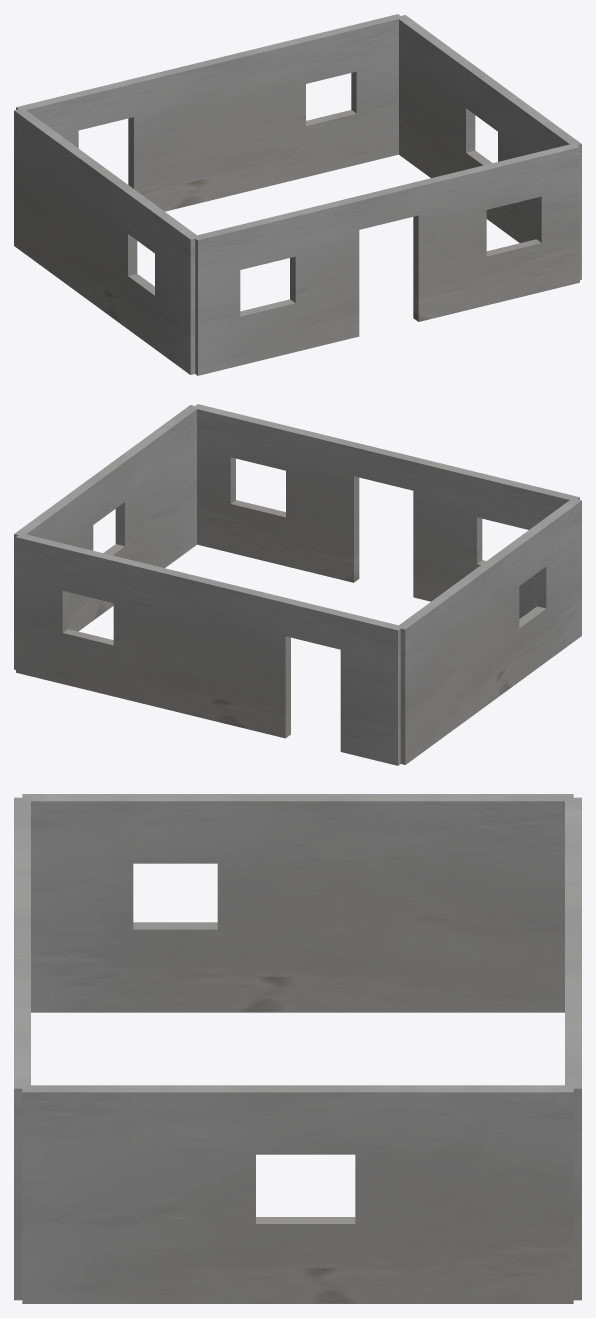
Rendered from BW_Farmhouse01_Plaster.fbx.
3 views of the same model, one above another, from view 1: azimuth 30°, elevation 25°; view 2: azimuth 150°, elevation 25°; view 3: azimuth 270°, elevation 25° (orthographic). The views are drawn at different scales.
Visible parts, largest first — view 1: BW_Farmhouse01_Plaster; view 2: BW_Farmhouse01_Plaster; view 3: BW_Farmhouse01_Plaster.
Boxes of the visible parts, x1,y1,x2,y2 form: BW_Farmhouse01_Plaster: [14, 14, 581, 375]; BW_Farmhouse01_Plaster: [14, 404, 581, 765]; BW_Farmhouse01_Plaster: [14, 794, 581, 1303].
Size of the model in its own units: 9.22 by 3.05 by 7.42.
